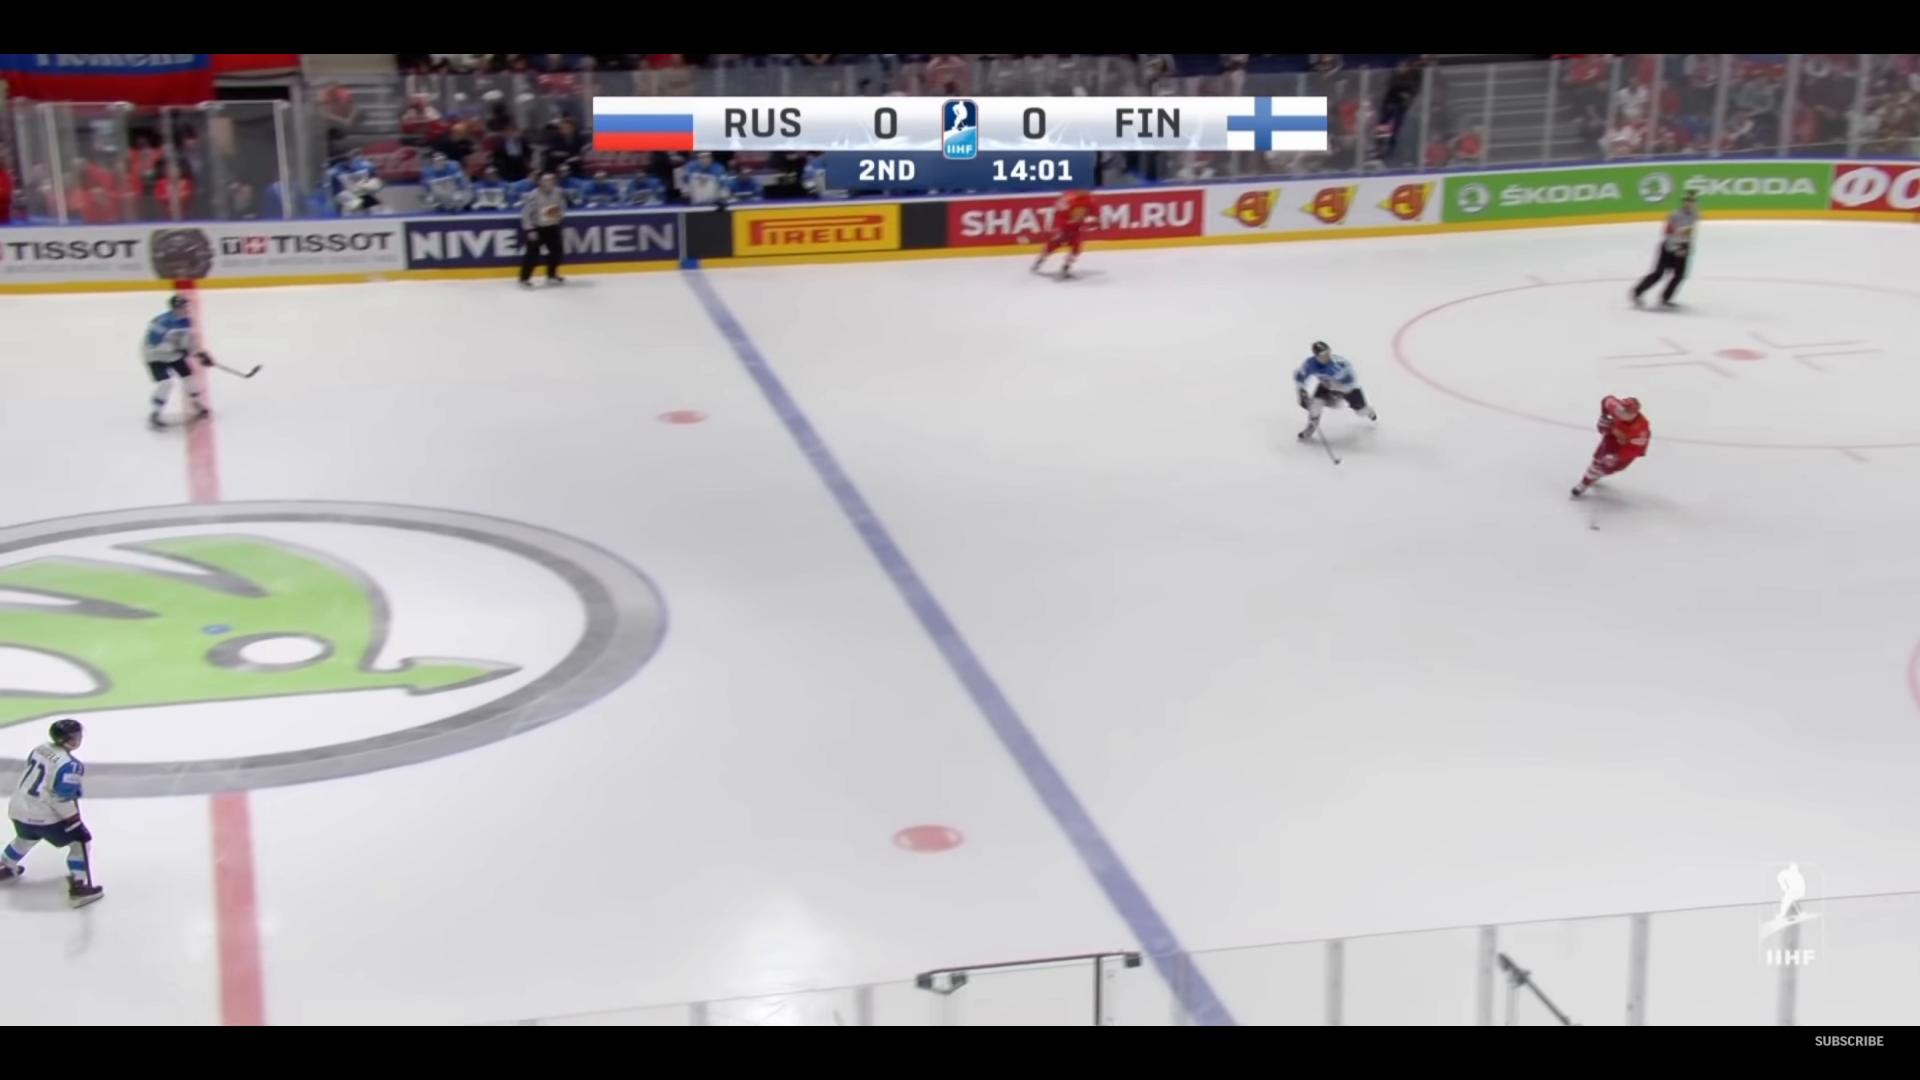puck: (1590, 524, 1600, 530)
